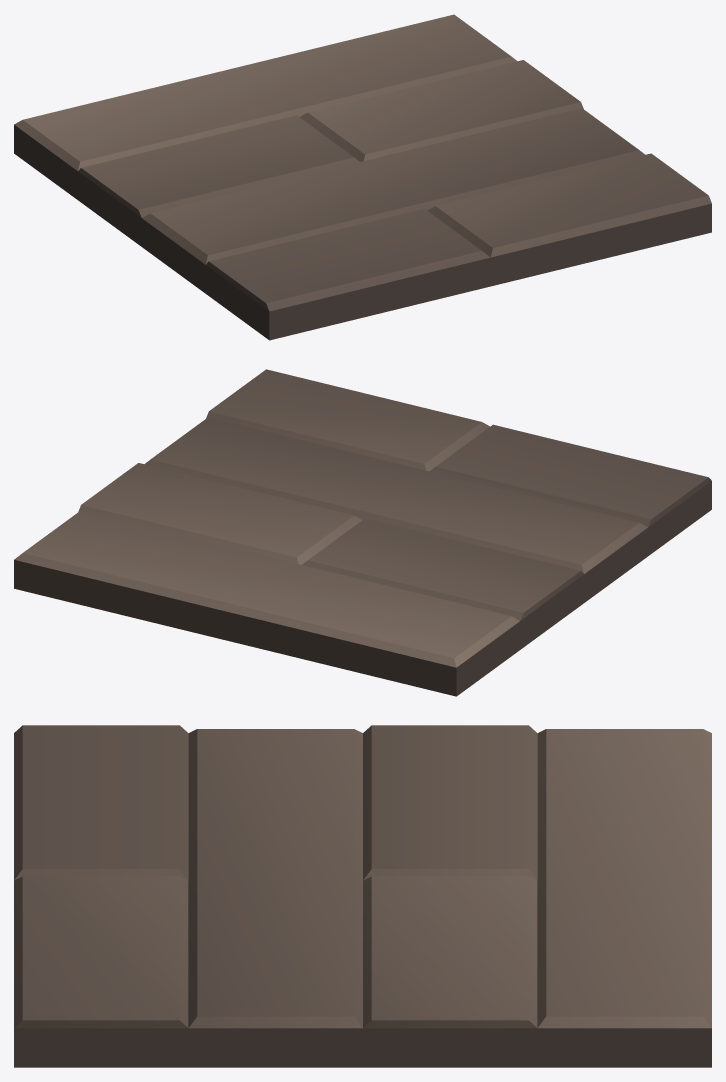
The model's file is floor_wood_small_dark.gltf.
The picture shows the model from 3 angles, top to bottom: view 1: azimuth 30°, elevation 25°; view 2: azimuth 150°, elevation 25°; view 3: azimuth 270°, elevation 25°; orthographic projection. The views are drawn at different scales.
Visible parts, largest first — view 1: floor_wood_small_dark; view 2: floor_wood_small_dark; view 3: floor_wood_small_dark.
Part boxes in pixels (<box>): floor_wood_small_dark: <box>14,14,711,340</box>; floor_wood_small_dark: <box>14,369,711,696</box>; floor_wood_small_dark: <box>14,725,711,1067</box>.
Bounding box in the file's own units: 2 × 0.15 × 2.
Materials: 1 (1 with a texture image).
